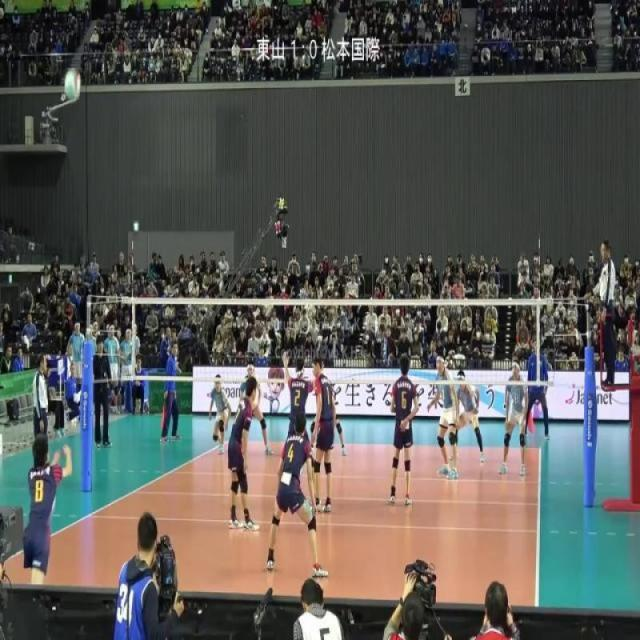volleyball: (64, 67, 82, 102)
